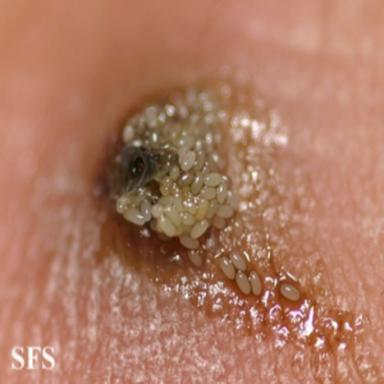Tungiasis: (109, 89, 301, 305)
